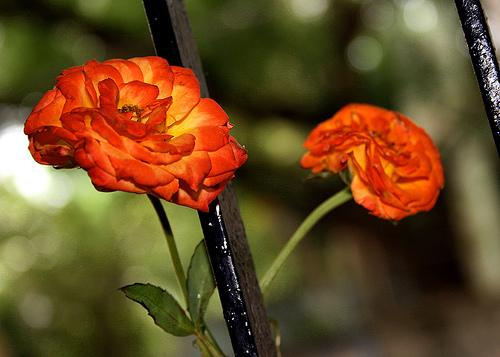Rose: (22, 52, 251, 214), (298, 95, 447, 233)
